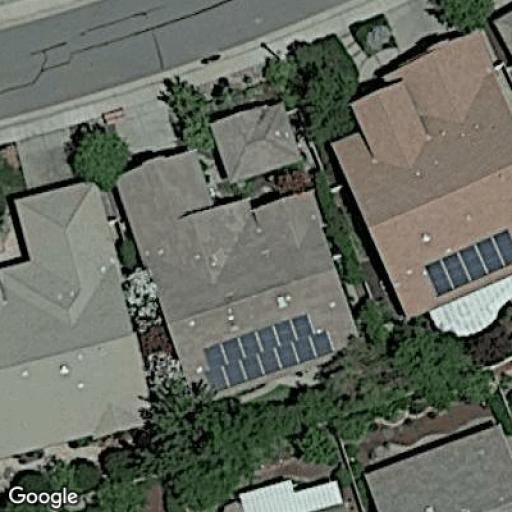solar-panel: (202, 310, 334, 392), (421, 229, 512, 297)
